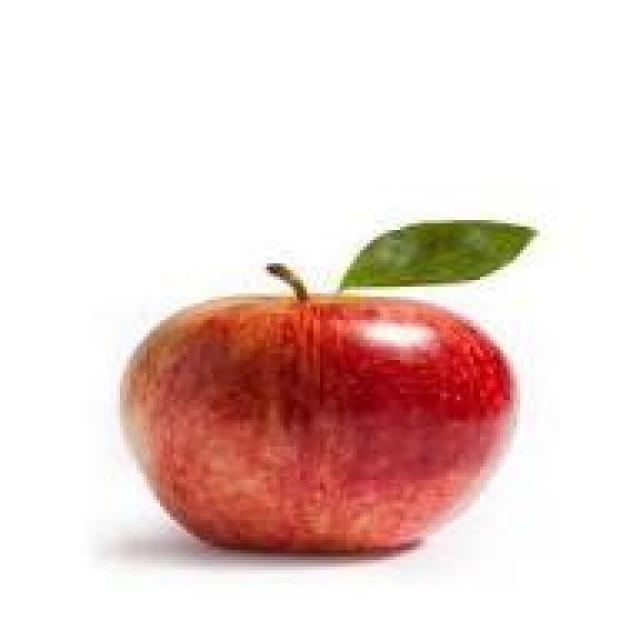apple: (124, 290, 514, 577)
